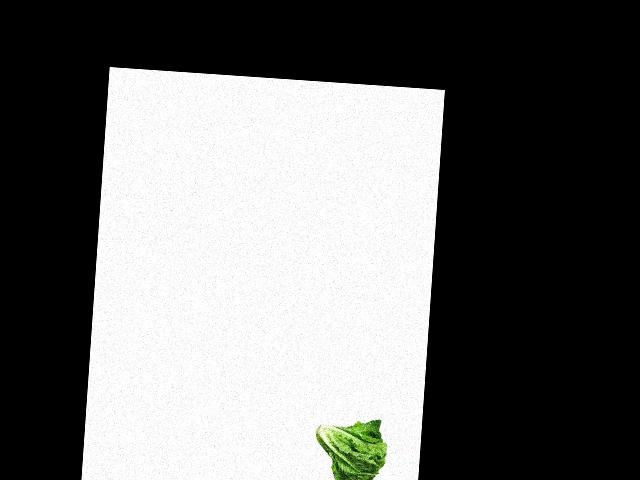lettuce: (308, 416, 389, 480)
